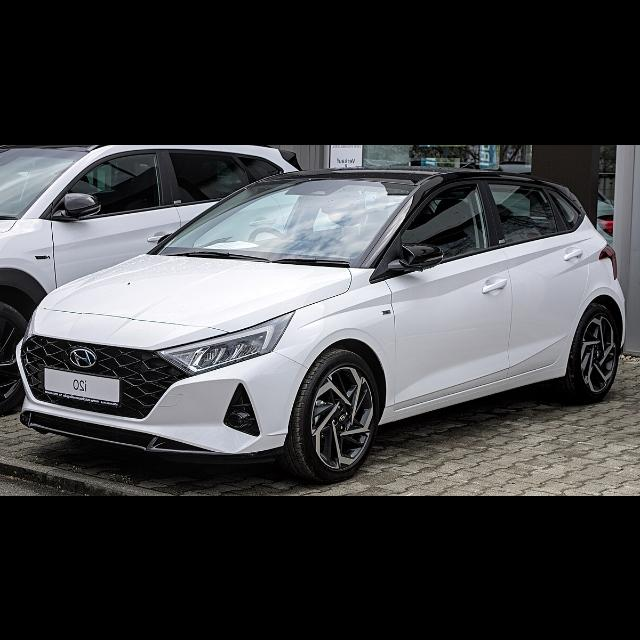number-plate: (43, 365, 124, 405)
vehicles: (18, 167, 622, 475), (4, 145, 297, 403)
